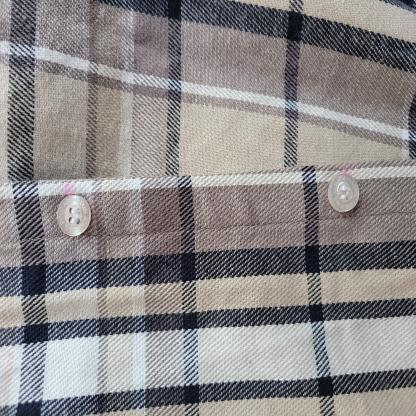spot: (56, 178, 82, 198), (332, 161, 358, 179)
